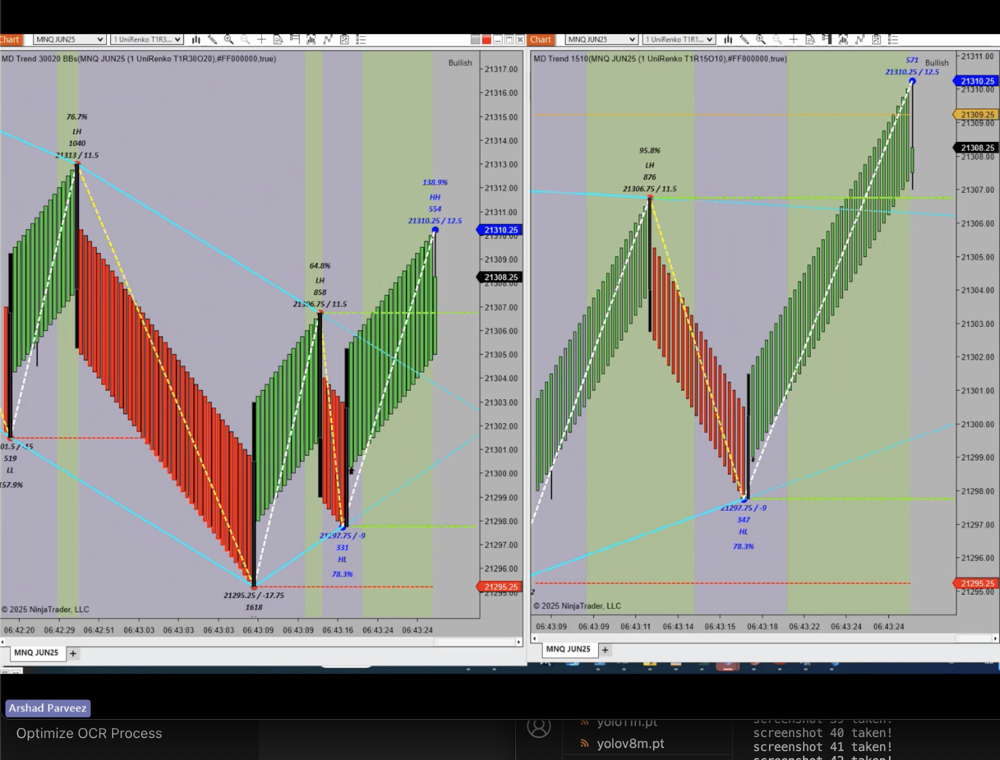HH: (424, 190, 447, 204)
HL: (735, 523, 754, 542), (334, 552, 351, 567)
LH: (308, 275, 333, 287), (641, 159, 661, 173), (67, 126, 87, 137)
LL: (1, 462, 19, 477)
